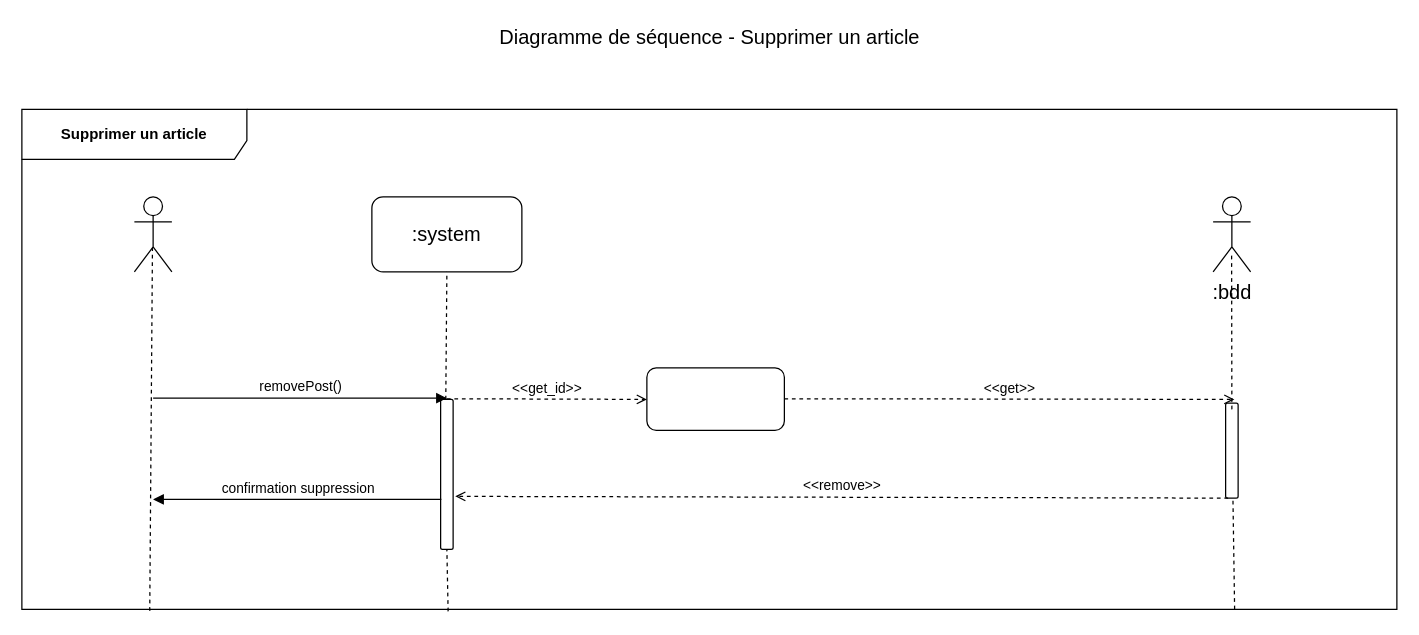
The diagram is 1419 pixels wide and 635 high, and some of its shapes have lost their labels. The shapes that lost their labels are listed below. From the top down, each one's centre as x and y in pixels, then its label:
At point 152,234: ":admin".
At point 715,398: "id_post".
